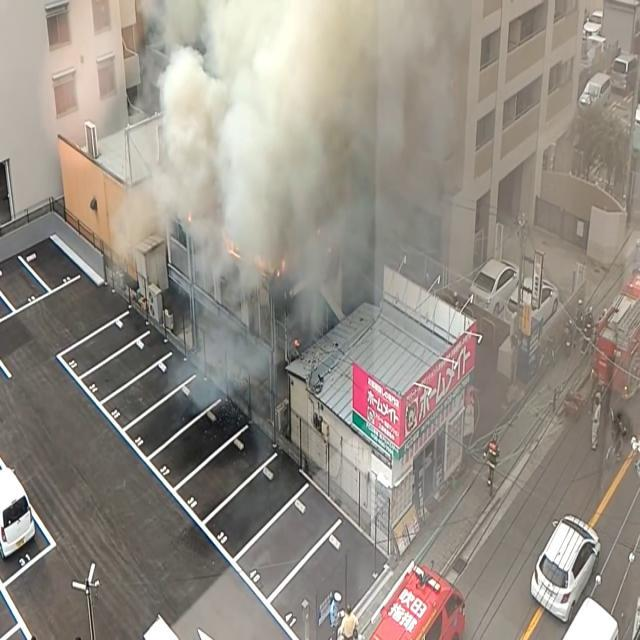Smoke: (120, 1, 466, 322)
